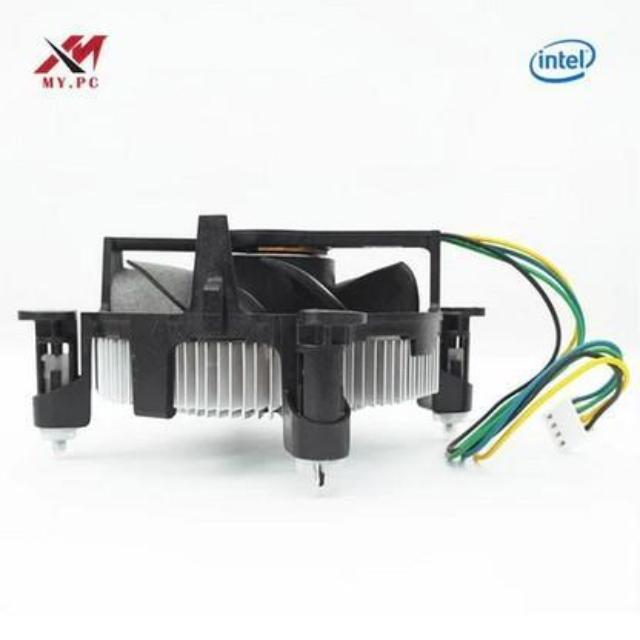CPU_Fan: (12, 228, 484, 454)
